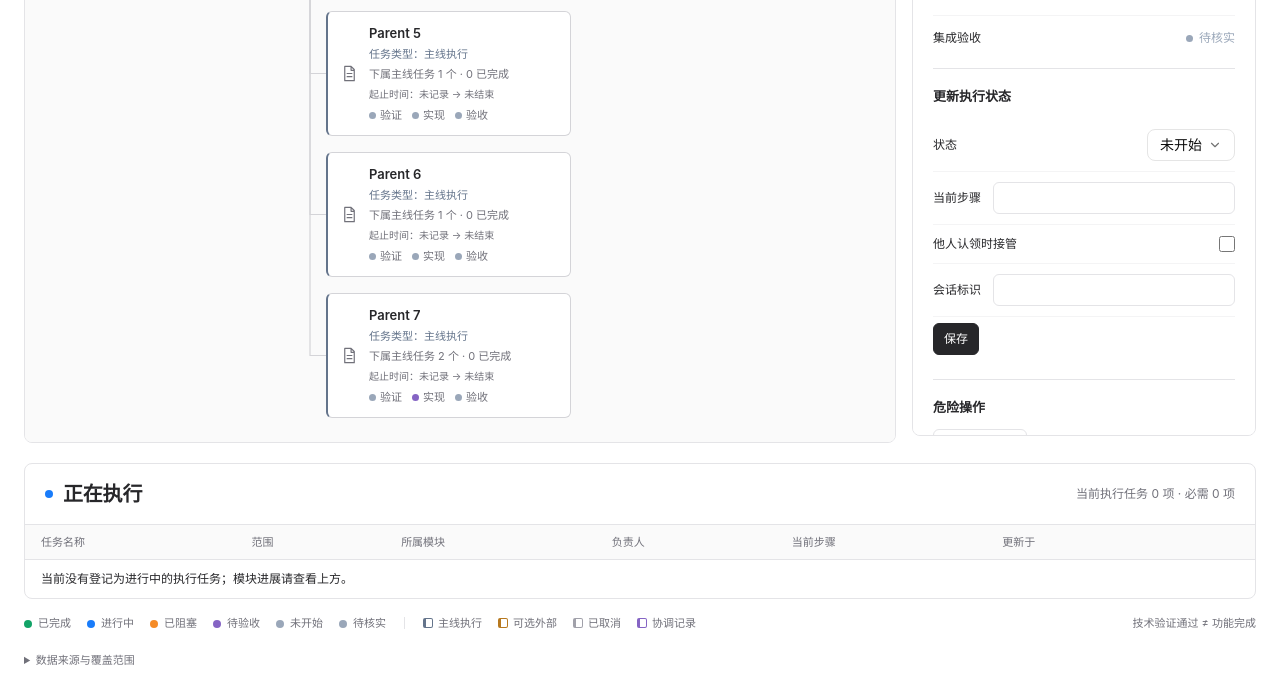
Scenario: centers a late parent child group at its parent rather than the whole sibling column
(page scrolled)
Click the button "Parent 7" at x=448, y=356, box x1=326 y1=293 x2=571 y2=418
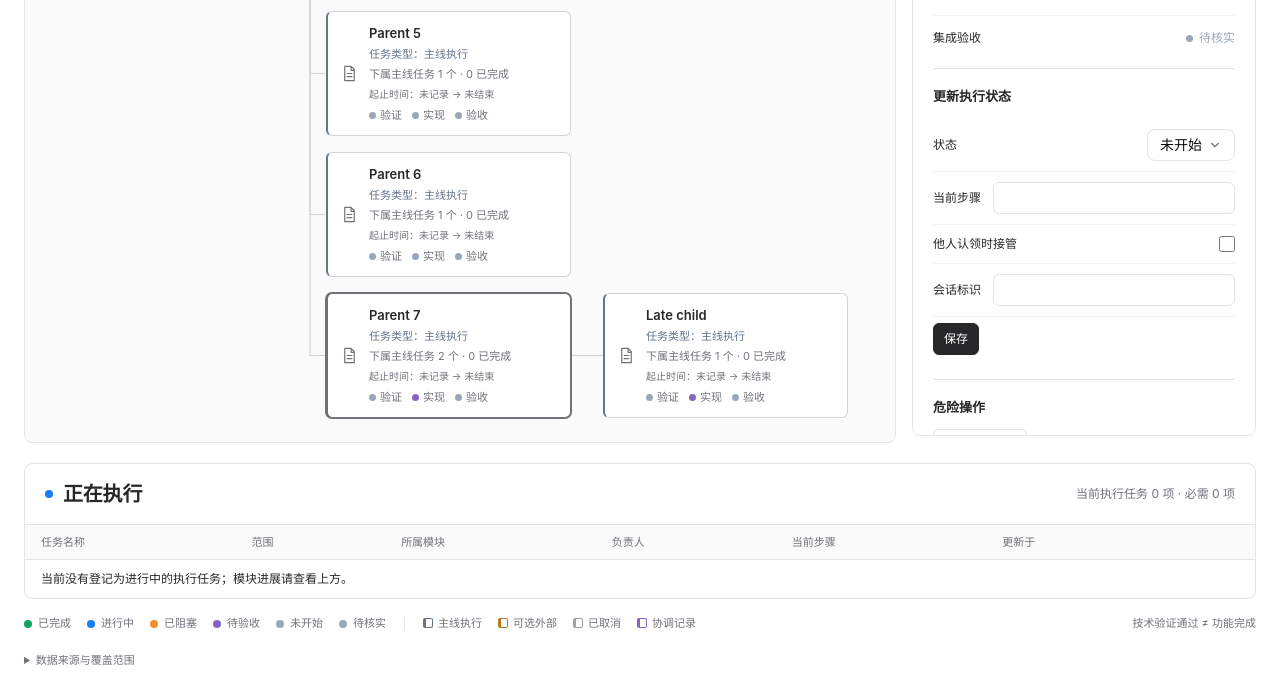
Now the 3rd icon with class "in_review" is shown, box x1=689 y1=394 x2=696 y2=402
